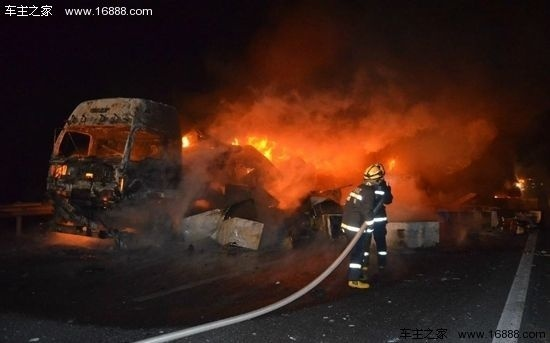fire: (232, 131, 281, 162)
